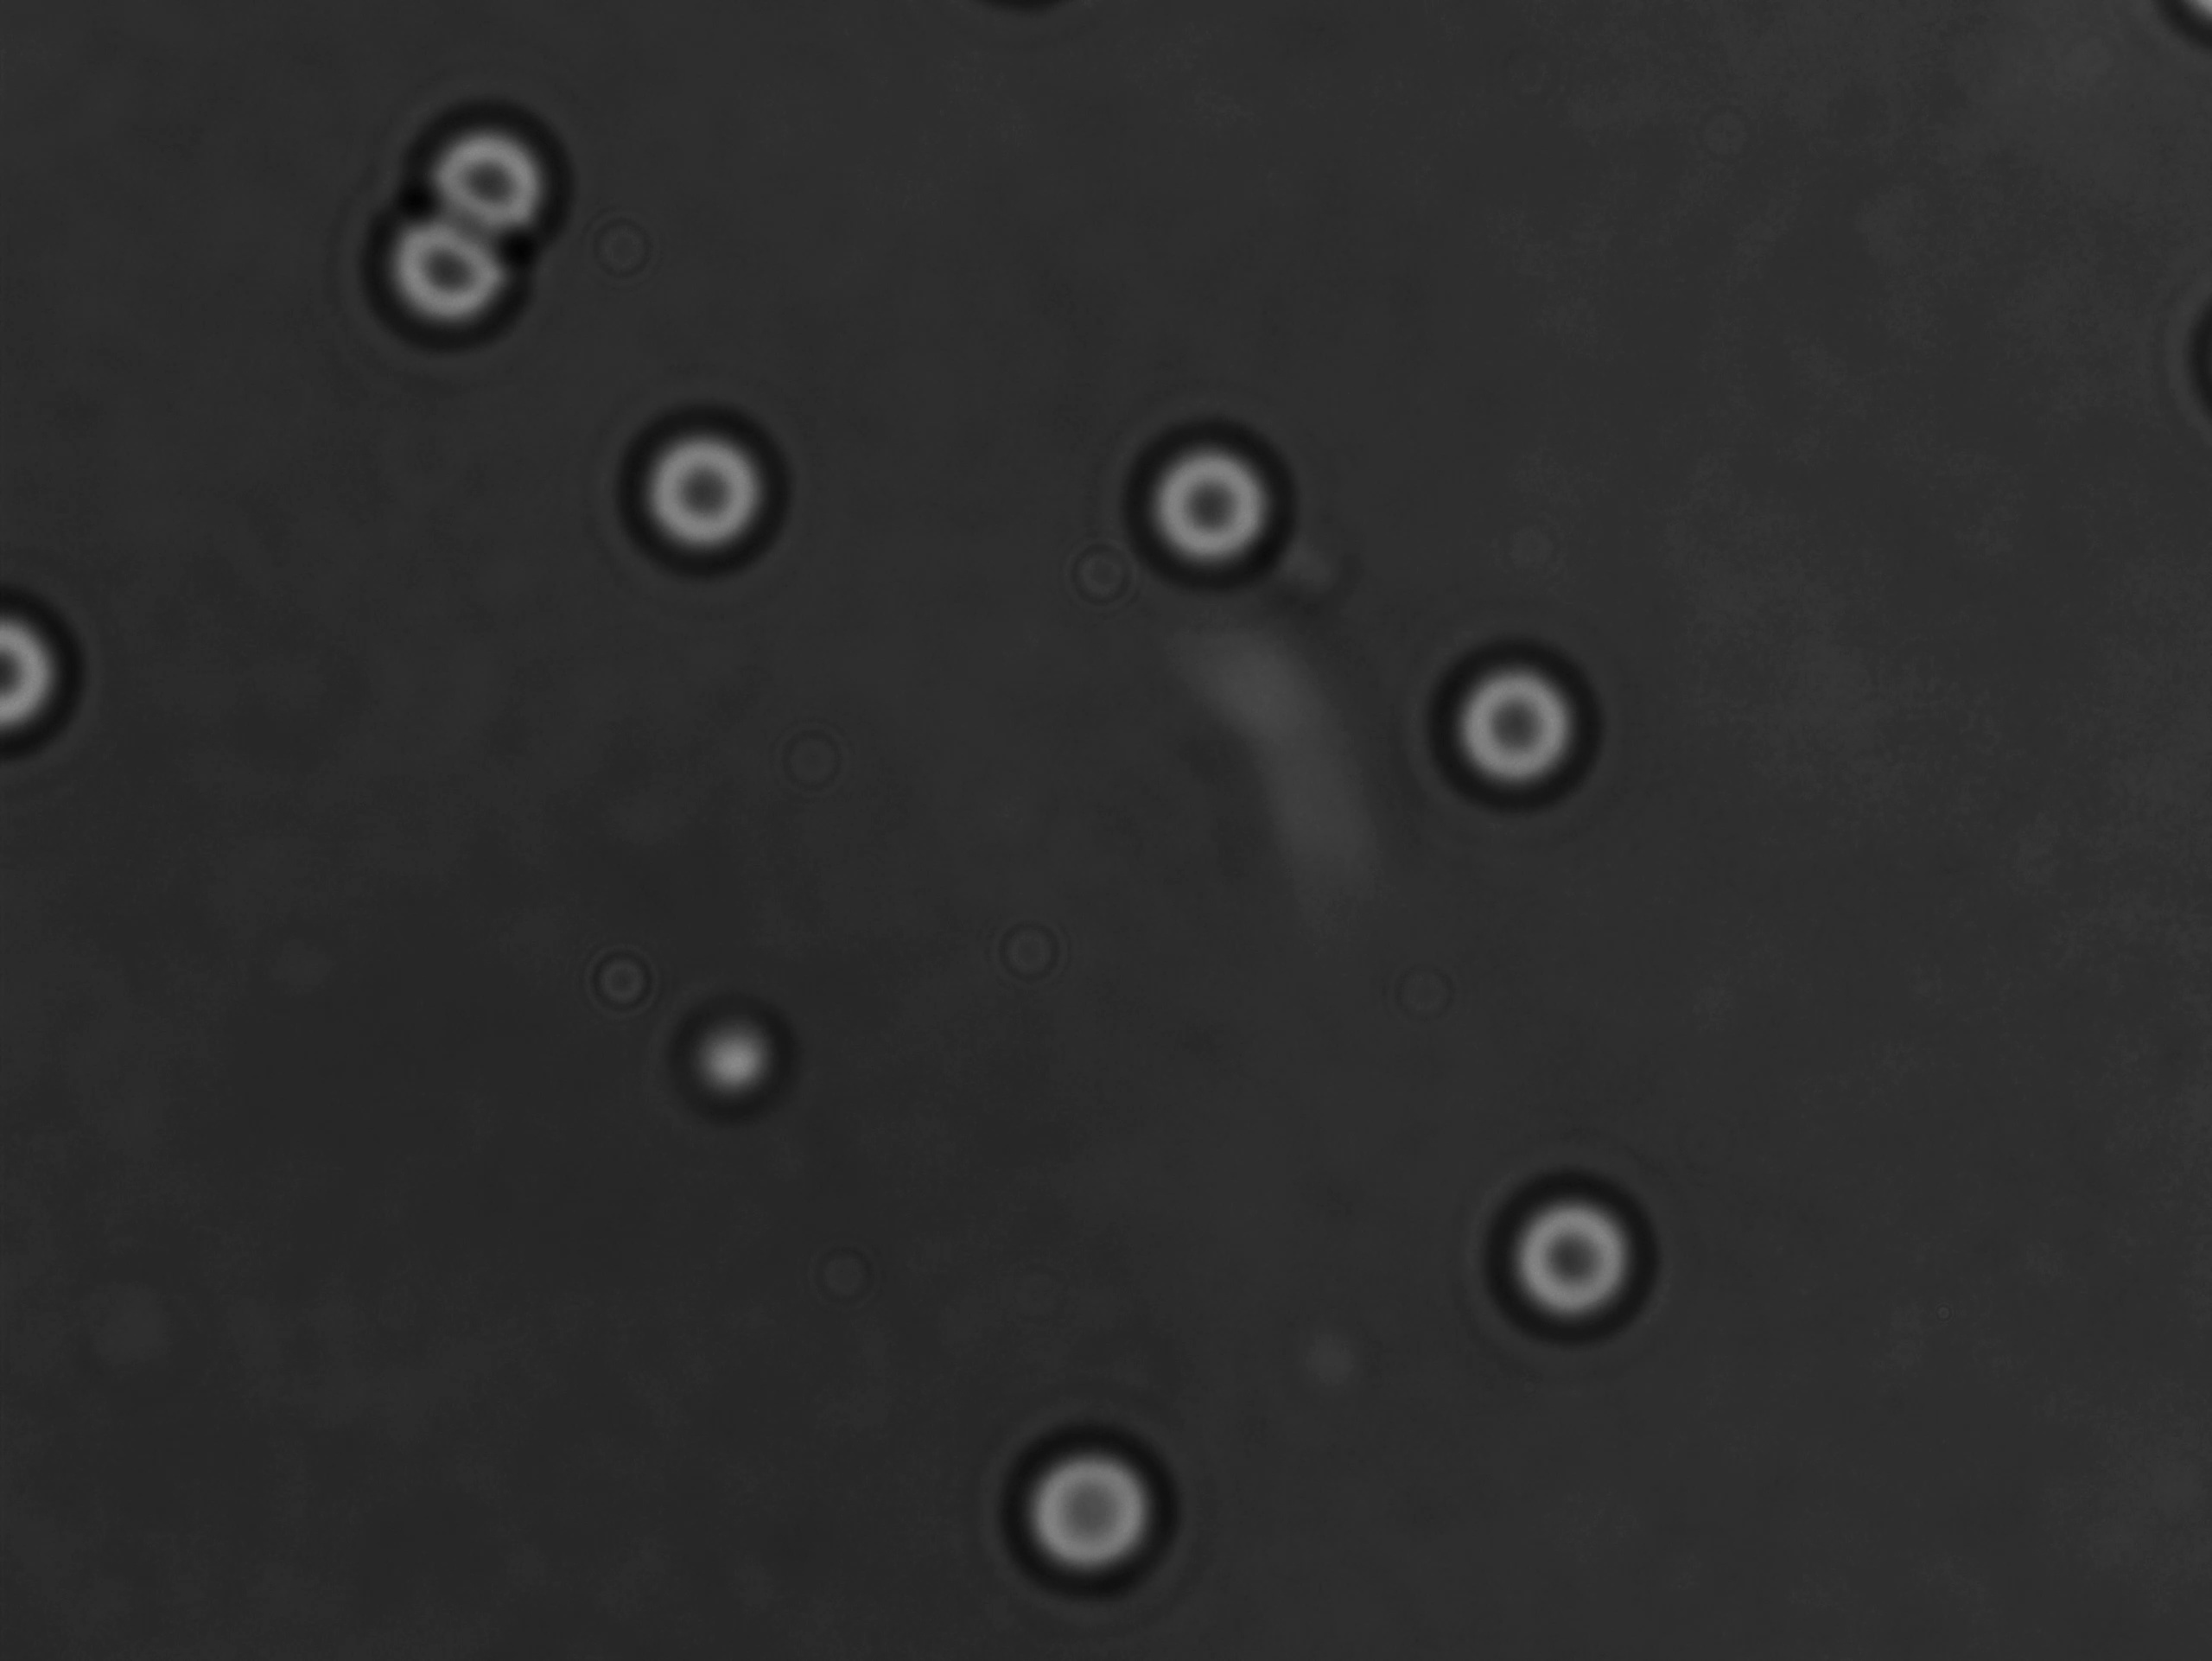depth:80: (1471, 1148, 1701, 1361), (373, 75, 602, 284), (984, 1413, 1212, 1616), (598, 380, 822, 586), (1111, 387, 1324, 595), (1415, 621, 1628, 829), (333, 173, 544, 372)
